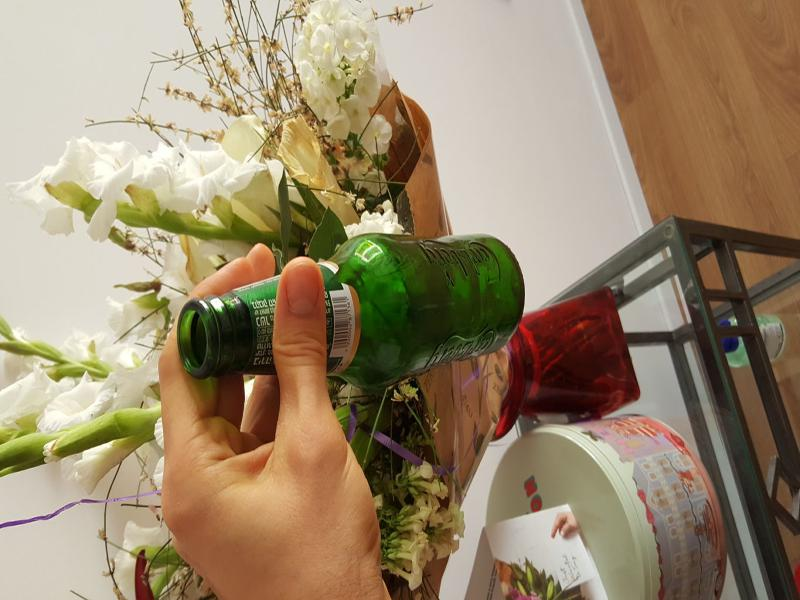Beer: (179, 231, 526, 387)
